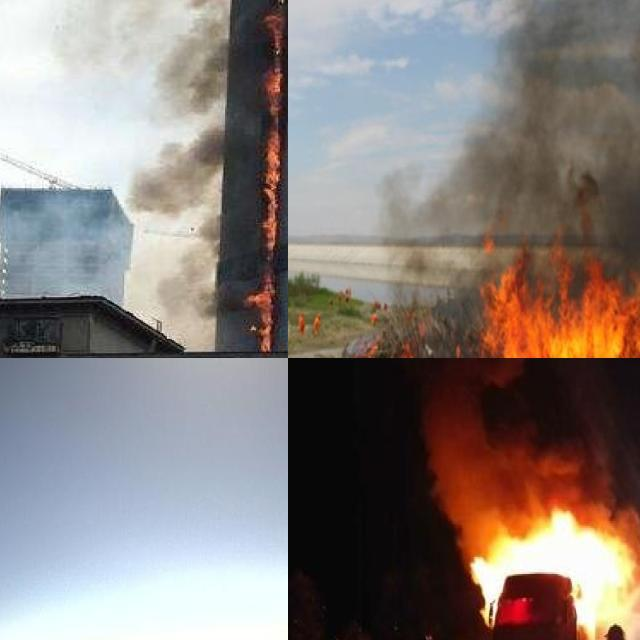fire: (474, 232, 640, 358), (476, 518, 628, 634), (254, 0, 281, 350), (392, 325, 425, 358), (358, 338, 380, 358)
smoke: (382, 0, 640, 288), (60, 0, 226, 340), (422, 358, 640, 541)
